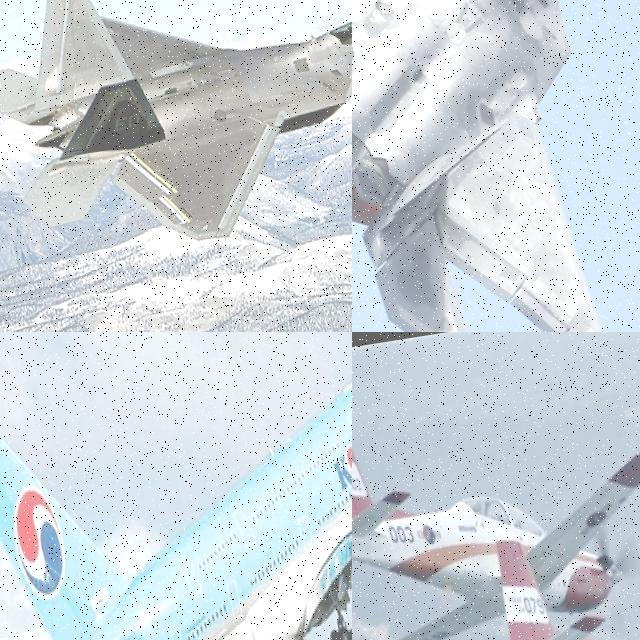A380: (0, 332, 352, 640)
F22: (0, 0, 352, 280), (352, 0, 640, 332)
KT-1: (352, 380, 640, 640), (421, 480, 640, 640)
